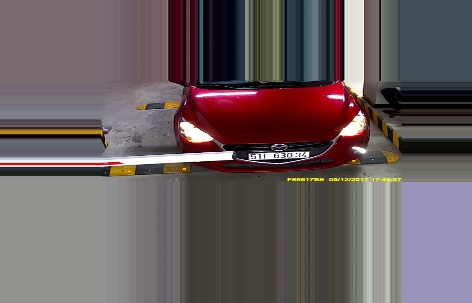plate: (249, 148, 309, 161)
